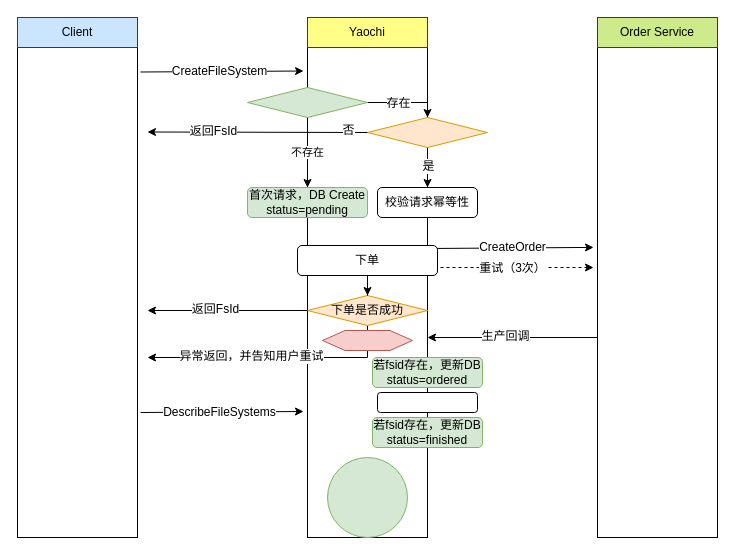
Image size: 735x555. Some labels were removed from this diagram. Here are the shapes that lost their labels. From the top down, the centre of each, then its label:
At pixel 307 102: "加载ClientToken".
At pixel 427 132: "Status==pending".
At pixel 367 340: "监控报警".
At pixel 427 402: "ocm成功返回".
At pixel 367 497: "以30天为周期进行自动回收".
